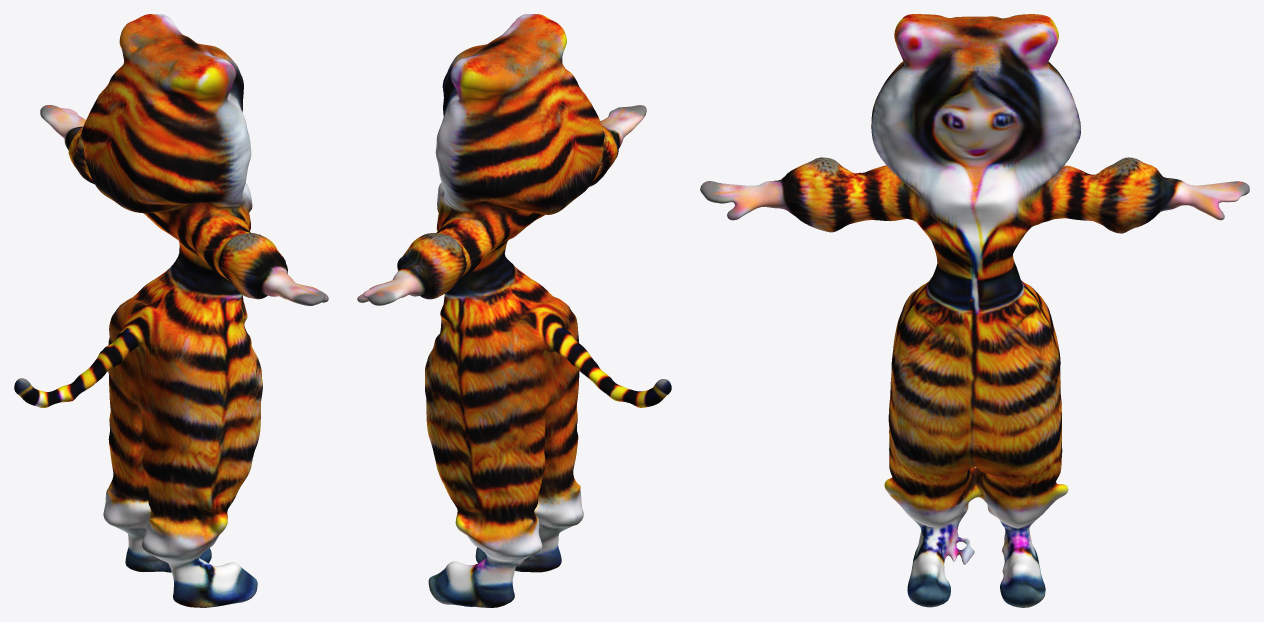
Rendered from 61b483d479ab_c8f81ecc6eef_A_cartoon_asian_wom.glb.
3 renders of one model, left to right at view 1: azimuth 30°, elevation 25°; view 2: azimuth 150°, elevation 25°; view 3: azimuth 270°, elevation 25°, orthographic. The views are drawn at different scales.
Parts seen in each view (by area): view 1: high_poly; view 2: high_poly; view 3: high_poly.
Boxes of the visible parts, left/top/right/bottom form: high_poly: left=14, top=14, right=328, bottom=607; high_poly: left=357, top=14, right=671, bottom=607; high_poly: left=700, top=14, right=1249, bottom=607.
Size of the model in its own units: 0.4257 by 1 by 0.8748.
Materials: 1 (1 with a texture image).
